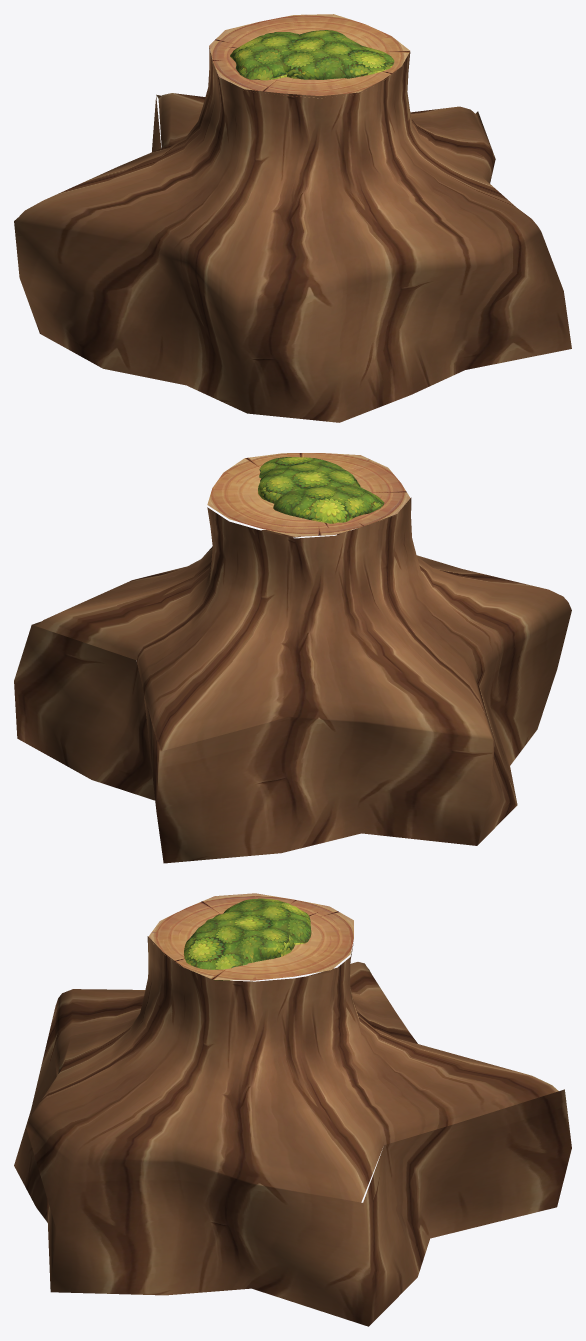
File: mossy_stump1.gltf
The picture shows the model from 3 angles, top to bottom: view 1: azimuth 30°, elevation 25°; view 2: azimuth 150°, elevation 25°; view 3: azimuth 270°, elevation 25°; orthographic projection. The views are drawn at different scales.
Visible parts, largest first — view 1: mossy_stump1_bark_LOD0, mossy_stump1_cap_LOD0, mossy_stump1_moss_LOD0; view 2: mossy_stump1_bark_LOD0, mossy_stump1_cap_LOD0, mossy_stump1_moss_LOD0; view 3: mossy_stump1_bark_LOD0, mossy_stump1_cap_LOD0, mossy_stump1_moss_LOD0.
Boxes of the visible parts, box(x1,y1,x2,y2) form: mossy_stump1_bark_LOD0: box(14, 46, 571, 422); mossy_stump1_cap_LOD0: box(209, 14, 409, 98); mossy_stump1_moss_LOD0: box(230, 30, 394, 80); mossy_stump1_bark_LOD0: box(14, 497, 571, 863); mossy_stump1_cap_LOD0: box(207, 453, 410, 536); mossy_stump1_moss_LOD0: box(258, 457, 384, 523); mossy_stump1_bark_LOD0: box(14, 936, 571, 1326); mossy_stump1_cap_LOD0: box(148, 893, 353, 980); mossy_stump1_moss_LOD0: box(184, 898, 311, 980).
Size of what is drawn, in the model's own units: 1.53 by 0.8447 by 1.5.
3 materials, 3 textured.
